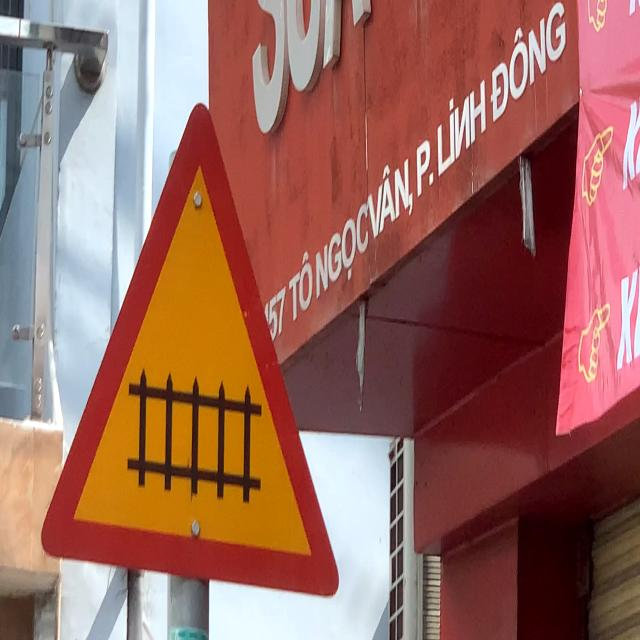W.210: (37, 99, 342, 606)
